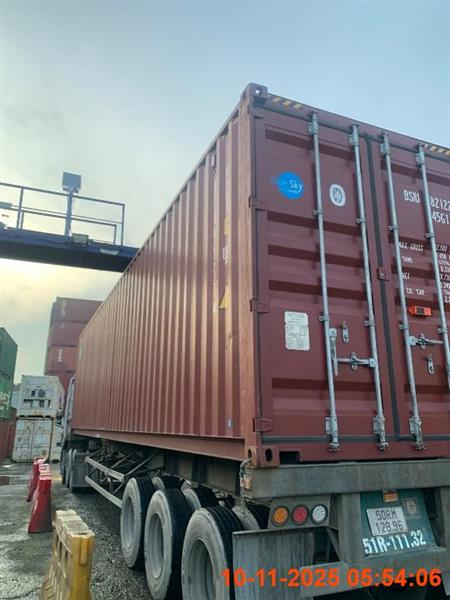crack: (52, 84, 448, 599)
